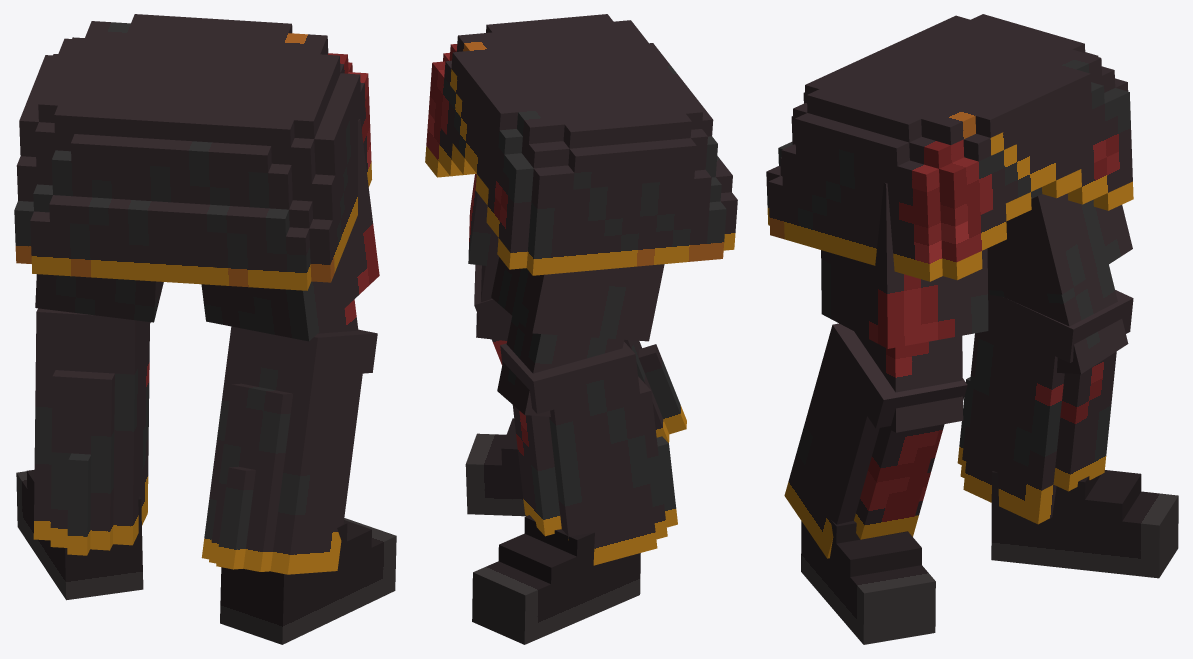
The model's file is 7a295faf-30c9-4819-bf3e-bf8dc605b0a2.gltf.
3 views of the same model, side by side, from view 1: azimuth 30°, elevation 25°; view 2: azimuth 150°, elevation 25°; view 3: azimuth 270°, elevation 25° (orthographic). The views are drawn at different scales.
Visible parts, largest first — view 1: Equip_Hip-Local, Equip_Right_Leg-Local, Equip_Left_Leg-Local, Equip_Right_Foot-Local, Equip_Right_Thigh-Local, Equip_Left_Foot-Local, Equip_Left_Thigh-Local; view 2: Equip_Hip-Local, Equip_Left_Leg-Local, Equip_Left_Thigh-Local, Equip_Left_Foot-Local, Equip_Right_Foot-Local, Equip_Right_Leg-Local, Equip_Right_Thigh-Local; view 3: Equip_Hip-Local, Equip_Left_Leg-Local, Equip_Right_Leg-Local, Equip_Right_Thigh-Local, Equip_Left_Thigh-Local, Equip_Left_Foot-Local, Equip_Right_Foot-Local.
Part boxes in pixels (x1,y1,x2,y2): Equip_Hip-Local: (14,14,371,290); Equip_Right_Leg-Local: (201,326,377,574); Equip_Left_Leg-Local: (33,308,150,555); Equip_Right_Foot-Local: (220,518,396,644); Equip_Right_Thigh-Local: (201,119,379,341); Equip_Left_Foot-Local: (16,469,143,600); Equip_Left_Thigh-Local: (35,274,163,322); Equip_Hip-Local: (425,14,737,275); Equip_Left_Leg-Local: (500,342,677,565); Equip_Left_Thigh-Local: (491,257,664,416); Equip_Left_Foot-Local: (472,515,640,644); Equip_Right_Foot-Local: (465,418,526,516); Equip_Right_Leg-Local: (474,264,686,442); Equip_Right_Thigh-Local: (468,174,507,340); Equip_Hip-Local: (766,14,1133,281); Equip_Left_Leg-Local: (957,290,1133,524); Equip_Right_Leg-Local: (784,323,967,558); Equip_Right_Thigh-Local: (821,182,988,432); Equip_Left_Thigh-Local: (987,193,1132,374); Equip_Left_Foot-Local: (991,470,1178,578); Equip_Right_Foot-Local: (801,520,935,644).
Size of the model in its own units: 19.44 by 29.29 by 21.42.
7 materials, 7 textured.
